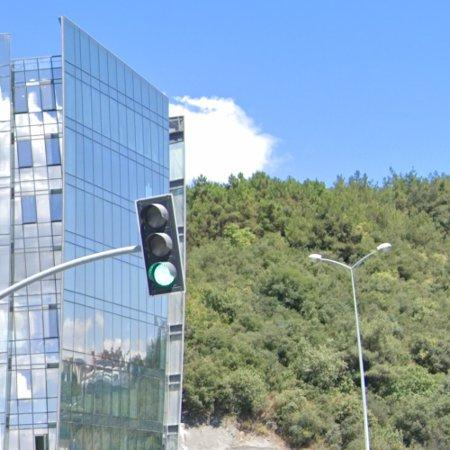traffic lights: (134, 195, 186, 299)
